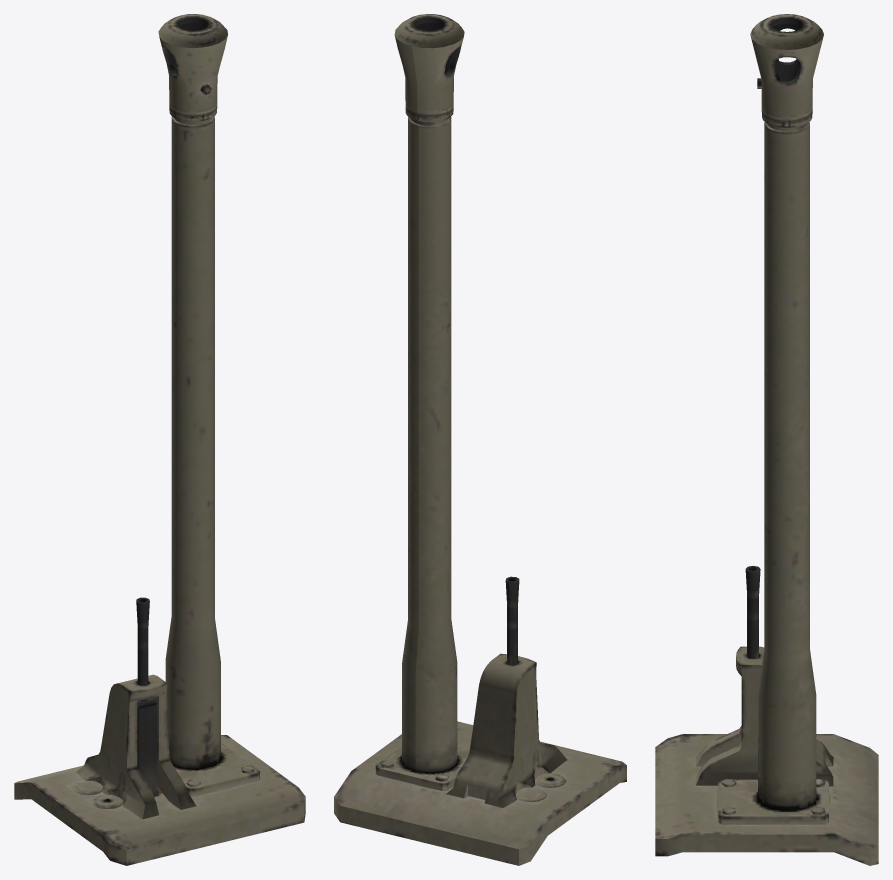
Rendered from Gun_07.glb.
The picture shows the model from 3 angles, left to right: view 1: azimuth 30°, elevation 25°; view 2: azimuth 150°, elevation 25°; view 3: azimuth 270°, elevation 25°; orthographic projection. The views are drawn at different scales.
Visible parts, largest first — view 1: set_0_group_0; view 2: set_0_group_0; view 3: set_0_group_0.
Part boxes in pixels (bbox=[...]): set_0_group_0: bbox=[14, 14, 305, 865]; set_0_group_0: bbox=[334, 14, 626, 865]; set_0_group_0: bbox=[655, 14, 878, 865].
Size of the model in its own units: 0.56 by 2.11 by 0.5254.
Materials: 1 (1 with a texture image).
